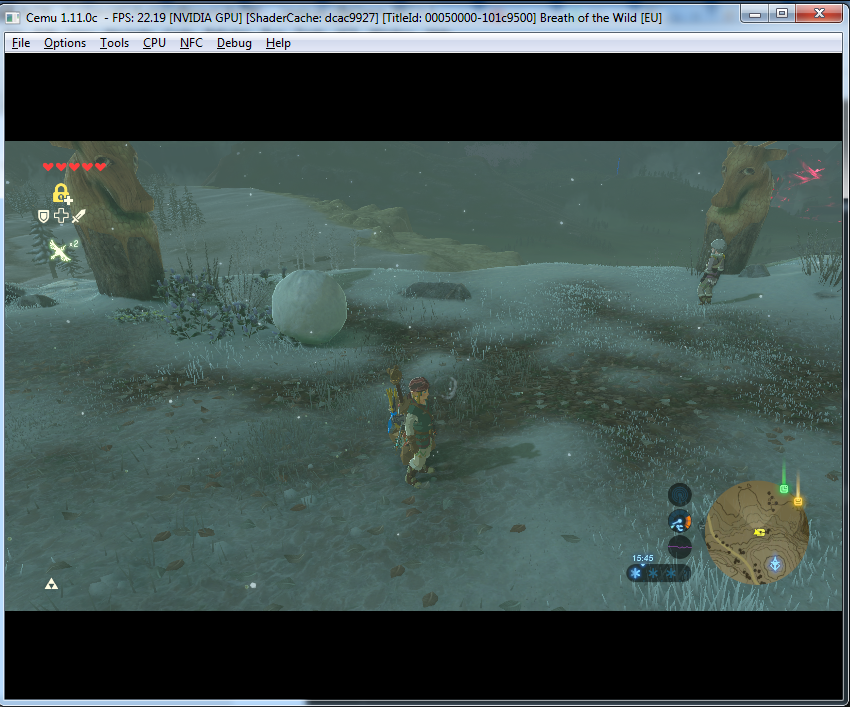dude: (691, 233, 731, 308)
snowball: (376, 361, 445, 488), (266, 267, 352, 344)
totem: (60, 134, 183, 305), (695, 139, 791, 291)
